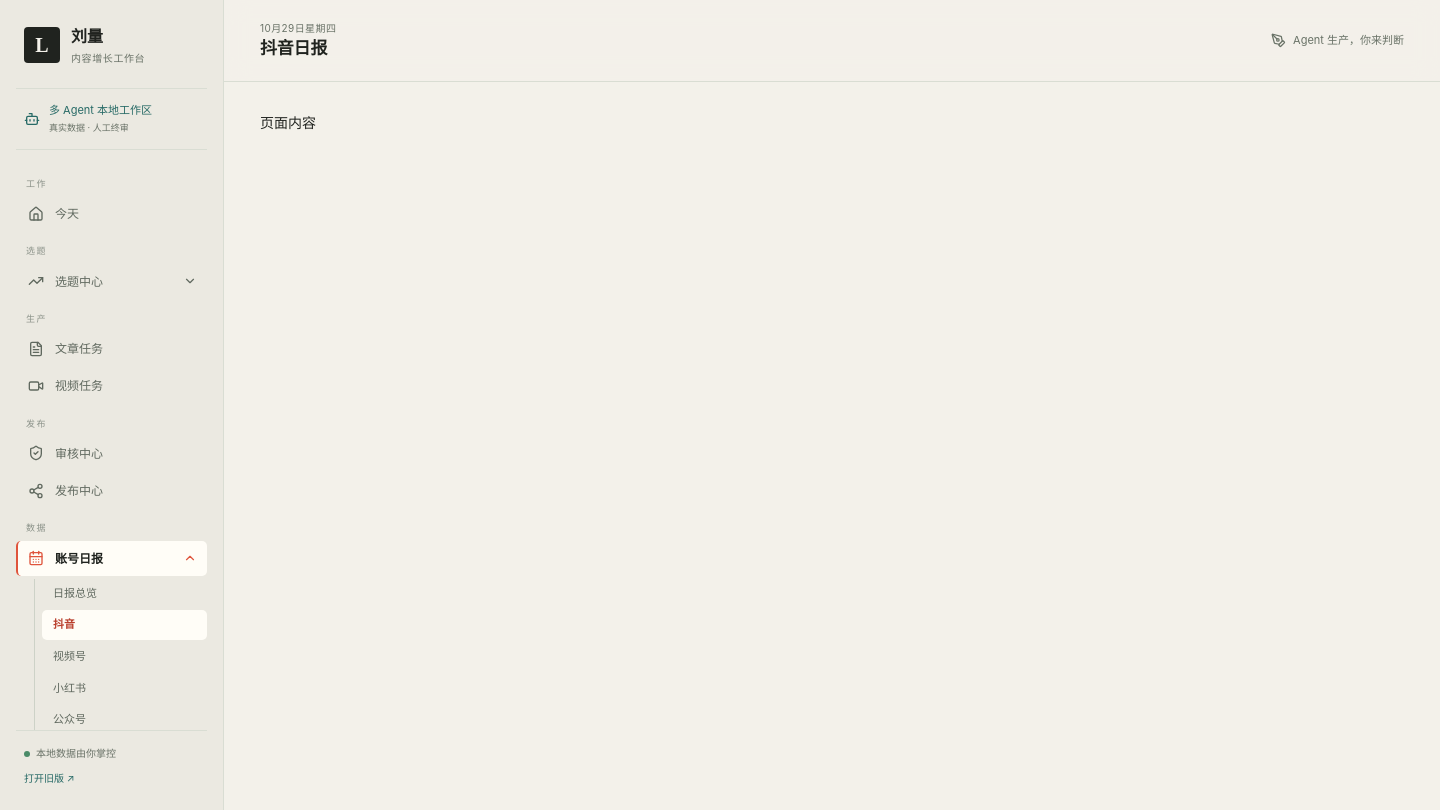
Test: AppShell analytics navigation › expands account platforms and links to independent competitor analysis
Click the button "账号日报".
click(112, 558)  # box [16,541,207,576]
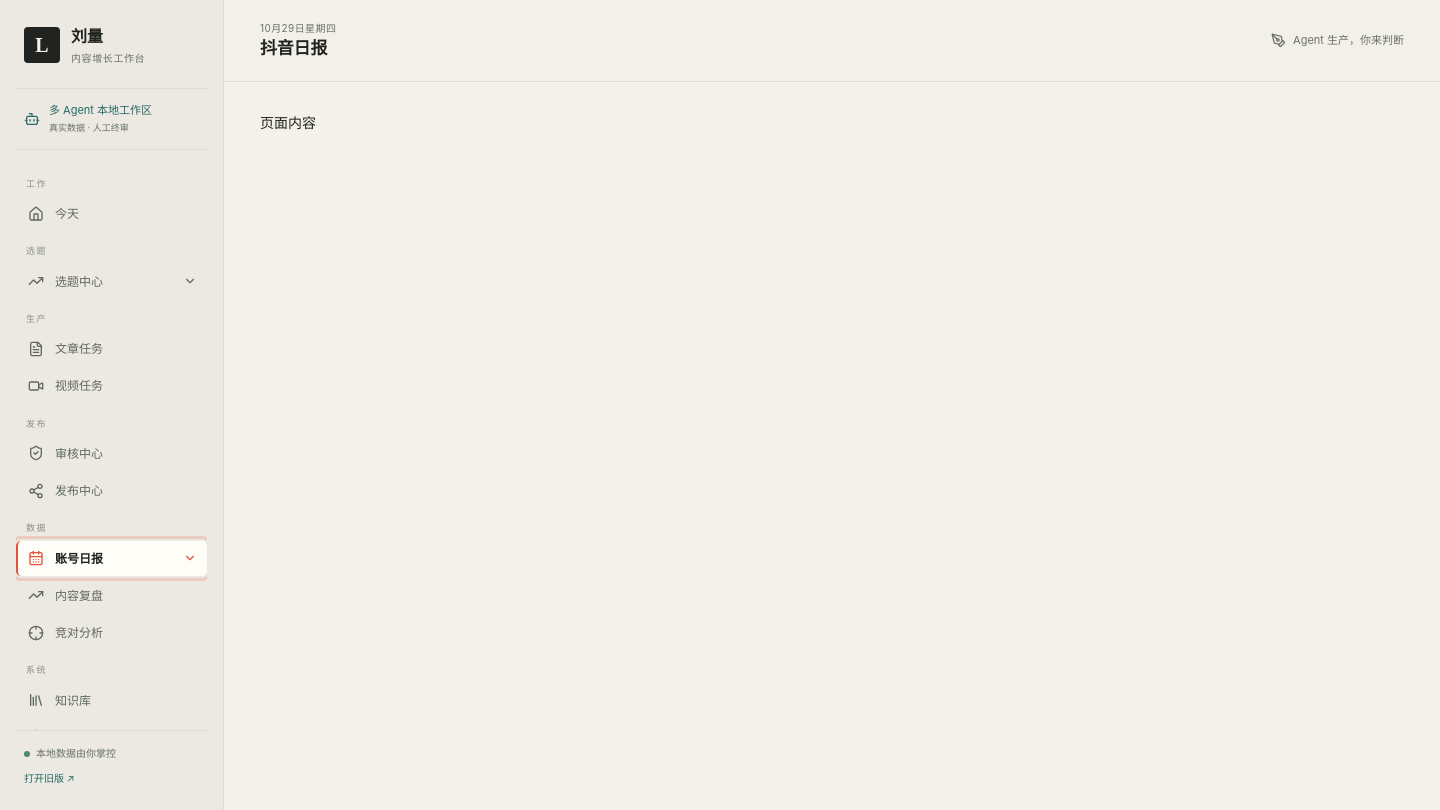
expect the link "日报总览" is gone: met
